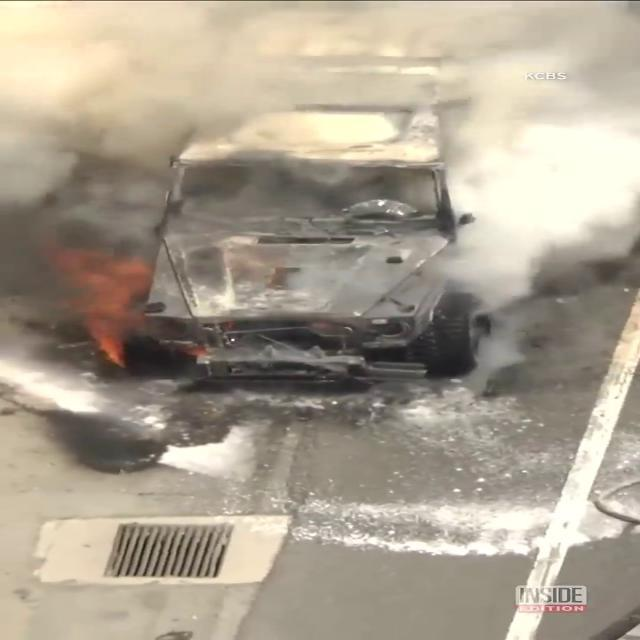Smoke: (1, 0, 638, 300)
